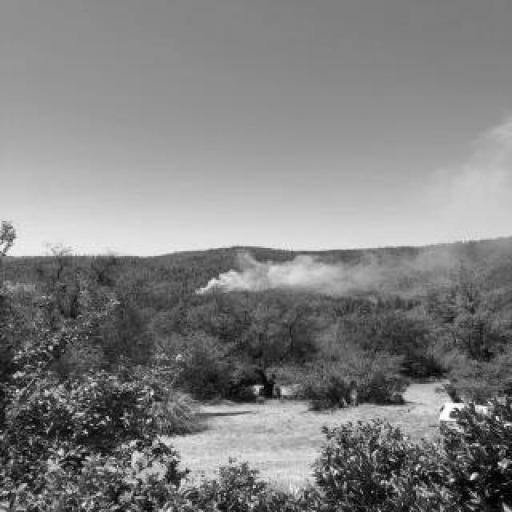smoke: (197, 246, 472, 301)
